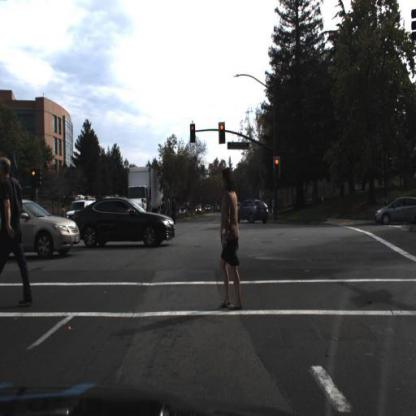car: (2, 197, 82, 259), (72, 199, 177, 246), (126, 165, 166, 216), (373, 190, 416, 232), (65, 196, 95, 225), (240, 199, 270, 225)
pedestrian: (2, 157, 36, 312), (213, 167, 245, 312), (161, 192, 169, 224), (165, 196, 173, 225), (273, 198, 277, 216)
trafficLight-Red: (218, 121, 227, 149), (273, 155, 281, 181)
trafficLight-RedLeft: (29, 165, 40, 190), (190, 122, 197, 145), (31, 168, 38, 187)
truck: (127, 164, 165, 214)
